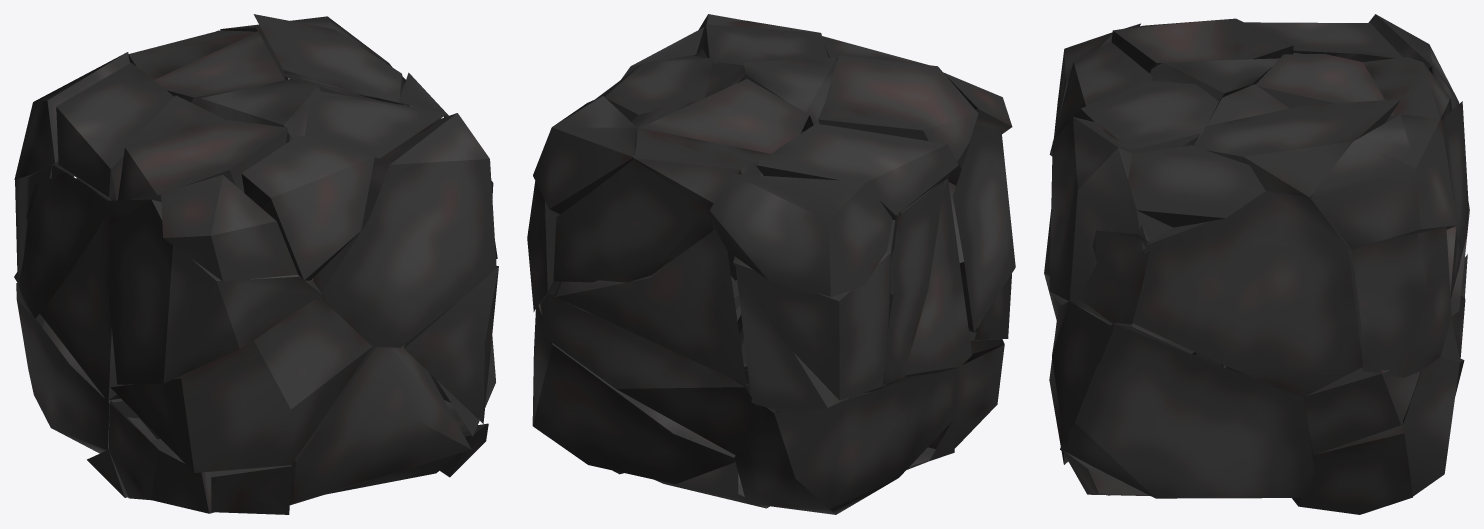
File: blocks_ganban.fbx
3 renders of one model, left to right at view 1: azimuth 30°, elevation 25°; view 2: azimuth 150°, elevation 25°; view 3: azimuth 270°, elevation 25°, orthographic. The views are drawn at different scales.
Visible parts, largest first — view 1: ganban; view 2: ganban; view 3: ganban.
Part boxes in pixels (<box>): ganban: <box>14,14,498,514</box>; ganban: <box>527,14,1015,514</box>; ganban: <box>1044,14,1469,514</box>.
Size of the model in its own units: 89.01 by 89.28 by 87.87.
